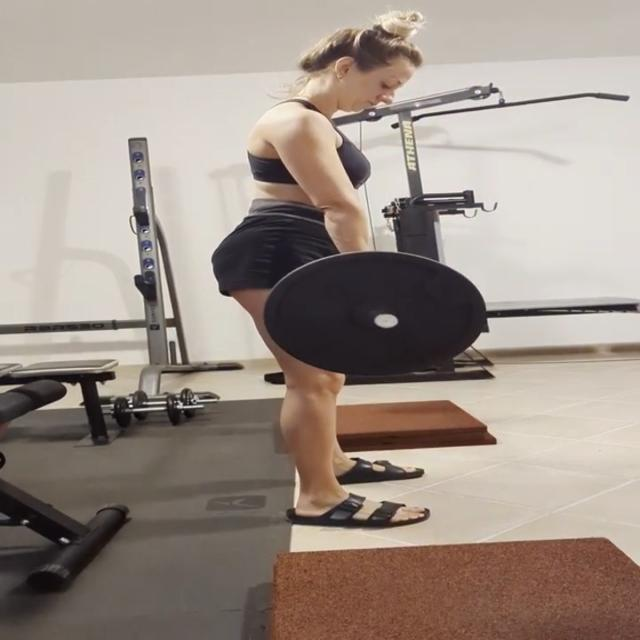barbell: (264, 250, 491, 378)
